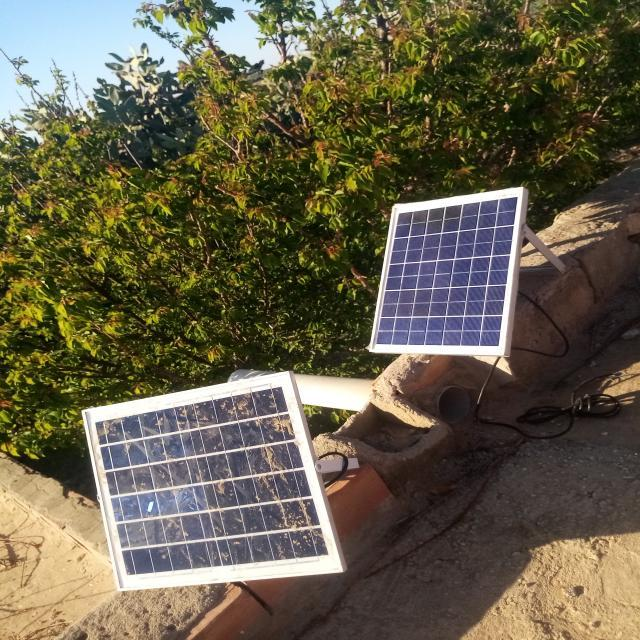faulty: (82, 370, 344, 592)
no faulty: (371, 187, 524, 353)
